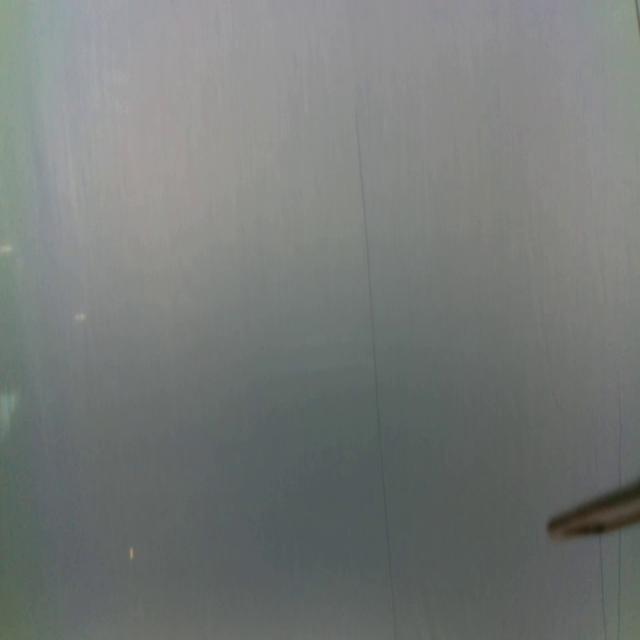crease: (353, 108, 398, 637), (599, 533, 608, 640), (616, 378, 624, 488), (616, 530, 623, 639)
